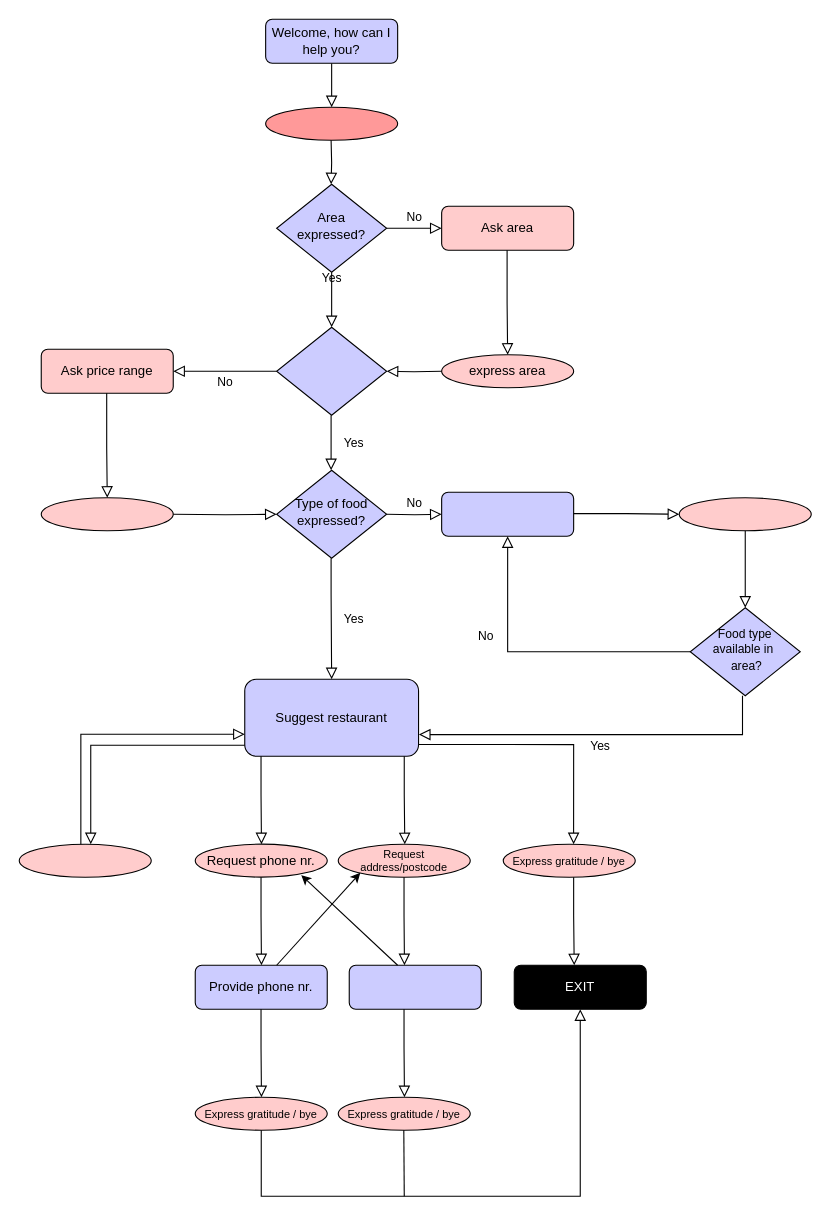
The diagram is 831 pixels wide and 1227 high, and some of its shapes have lost their labels. Each missing label, with the box of its shape:
Ask type of food: (441, 491, 574, 536)
express preferences: (265, 106, 398, 140)
express price range: (40, 497, 173, 531)
express type of food: (678, 497, 811, 531)
Price range expressed?: (276, 326, 387, 415)
Provide full adress.: (348, 964, 481, 1009)
Request alternative: (18, 843, 151, 877)
